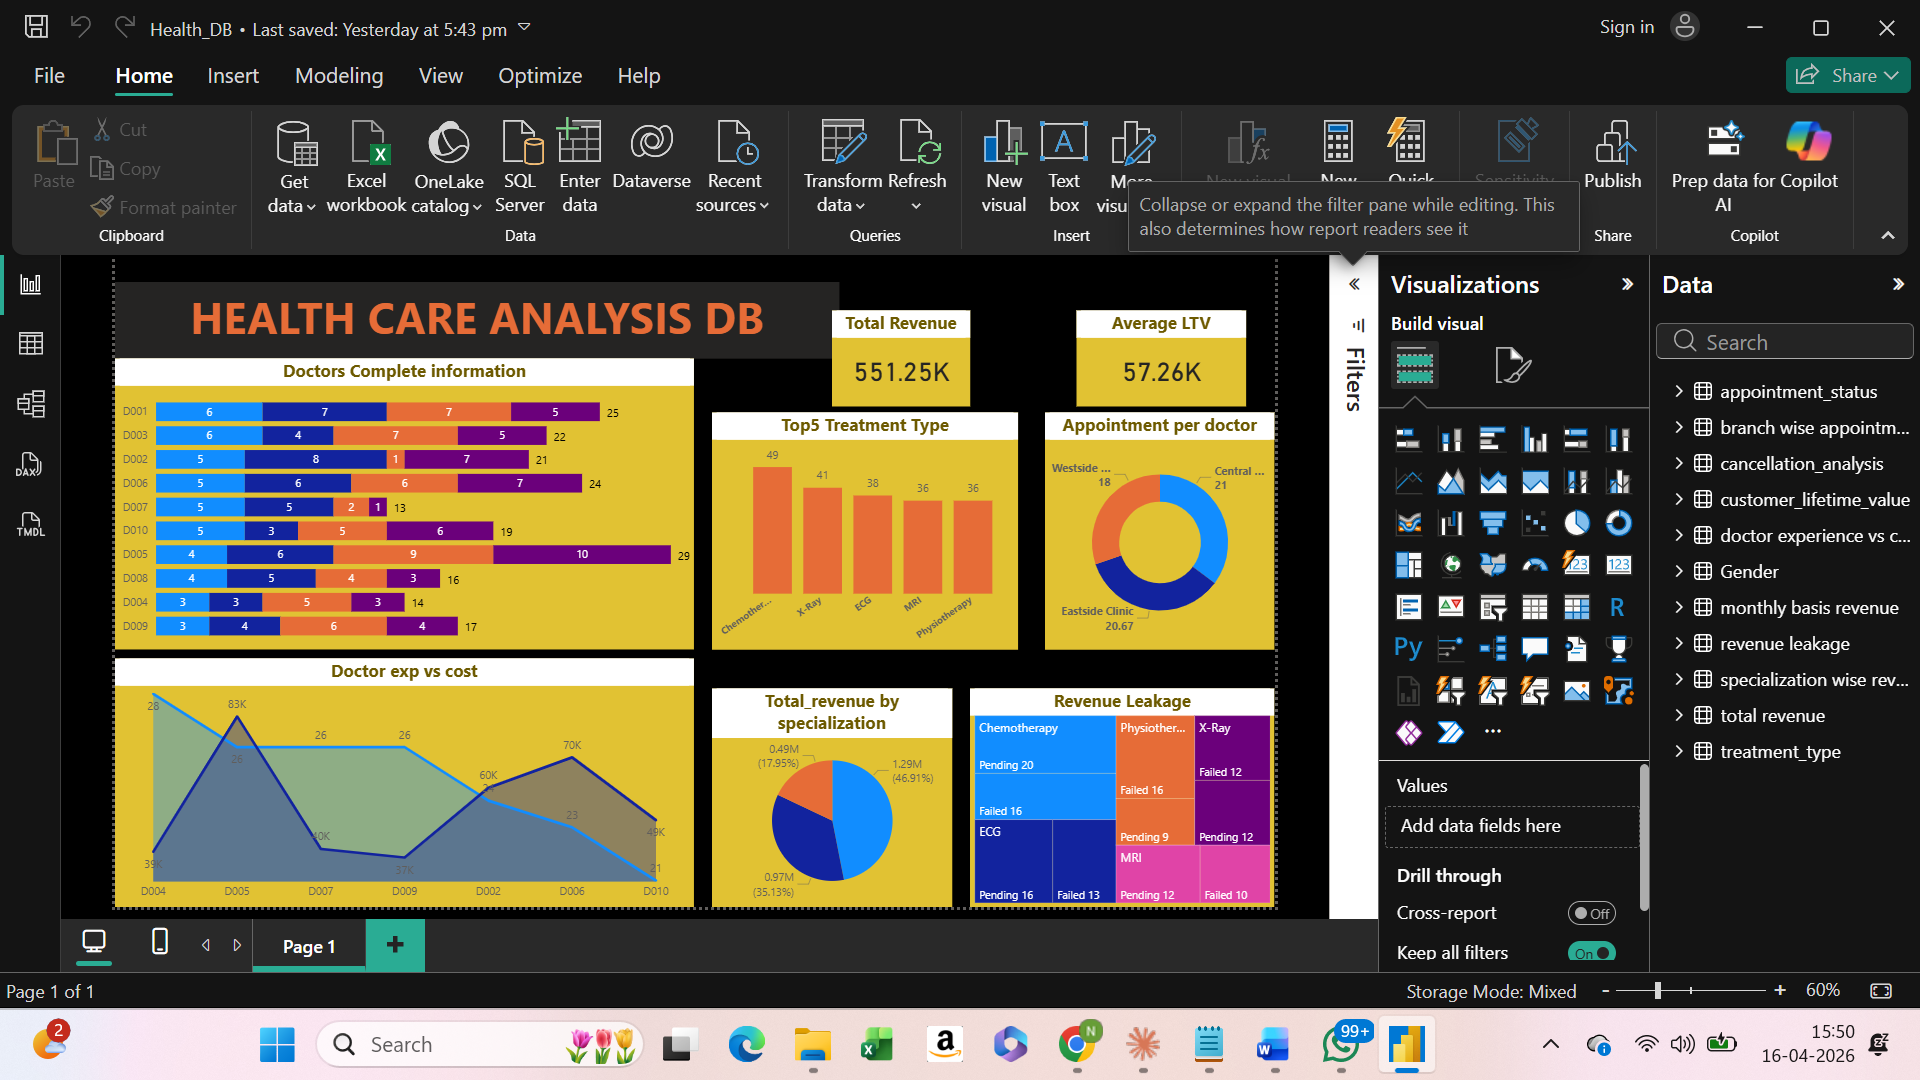

The dashboard page shown, as its layout file describes it:
{"tool":"powerbi","page":{"name":"Page 1","canvas":[1280,720],"ordinal":0},"visuals":[{"type":"textbox","box":[0,29.8,800.1,84.5],"z":0},{"type":"card","title":"Total Revenue","fields":{"Values":["Sum(total revenue.total_revenue)"]},"box":[791.8,61.3,152.4,106],"z":1000},{"type":"card","title":"Average LTV","fields":{"Values":["Avg(customer_lifetime_value.patient_ltv)"]},"box":[1061.8,61.3,187.2,106],"z":2000},{"type":"barChart","title":"Doctors Complete information","fields":{"Category":["cancellation_analysis.doctor_id"],"Y":["Sum(cancellation_analysis.completed_count)","Sum(cancellation_analysis.cancelled_count)","Sum(cancellation_analysis.no_show_count)","Sum(cancellation_analysis.scheduled_count)"]},"box":[0,114.3,639.4,321.4],"z":3000},{"type":"areaChart","title":"Doctor exp vs cost","fields":{"Category":["doctor experience vs cost.doctor_id"],"Y":["Sum(doctor experience vs cost.years_experience)"],"Y2":["Sum(doctor experience vs cost.Full_revenue)"]},"box":[0,445,639,275],"z":4000},{"type":"columnChart","title":"Top5 Treatment Type","fields":{"Category":["treatment_type.treatment_type"],"Y":["Sum(treatment_type.count of treatment type)"]},"box":[659.3,173.9,337.9,261.7],"z":5000},{"type":"pieChart","title":"Total_revenue by specialization","fields":{"Category":["specialization wise revenue.specialization"],"Y":["Sum(specialization wise revenue.total_revenue)"]},"box":[659.3,478.7,265,241.8],"z":6000},{"type":"donutChart","title":"Appointment per doctor","fields":{"Category":["branch wise appointments.hospital_branch"],"Y":["Sum(branch wise appointments.appointment_per_doctor)"]},"box":[1027,173.9,253.4,261.7],"z":7000},{"type":"treemap","title":"Revenue Leakage","fields":{"Values":["CountNonNull(revenue leakage.payment_method)"],"Details":["revenue leakage.payment_status"],"Group":["revenue leakage.treatment_type"]},"box":[944.2,478.7,336.3,241.8],"z":8000}]}

Visuals, with their boxes on the page's 1280x720 design canvas (x1, y1, x2, y2). These are canvas units, not pixel positions in the 1920x1080 screenshot, which may show the page scaled, cropped or inside an application window:
textbox: select_region(0, 30, 800, 114)
"Total Revenue" card: select_region(792, 61, 944, 167)
"Average LTV" card: select_region(1062, 61, 1249, 167)
"Doctors Complete information" barChart: select_region(0, 114, 639, 436)
"Doctor exp vs cost" areaChart: select_region(0, 445, 639, 720)
"Top5 Treatment Type" columnChart: select_region(659, 174, 997, 436)
"Total_revenue by specialization" pieChart: select_region(659, 479, 924, 720)
"Appointment per doctor" donutChart: select_region(1027, 174, 1280, 436)
"Revenue Leakage" treemap: select_region(944, 479, 1280, 720)
